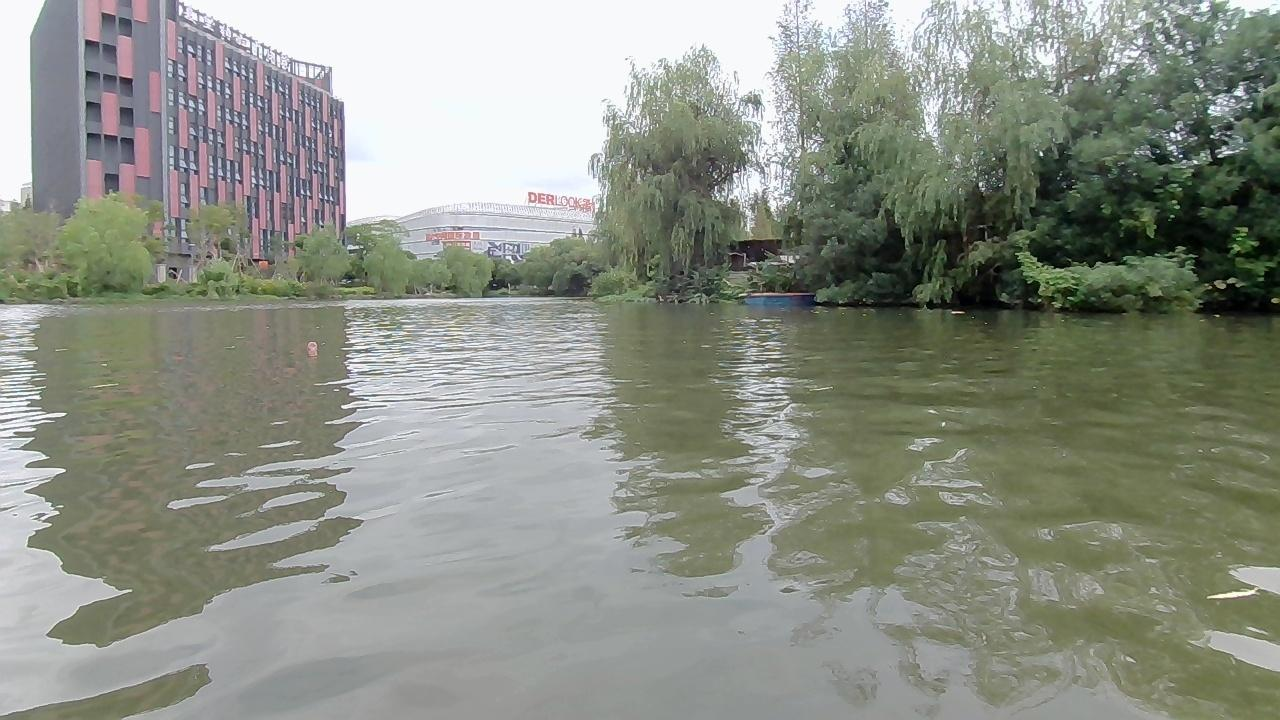bottle: (303, 338, 319, 352)
